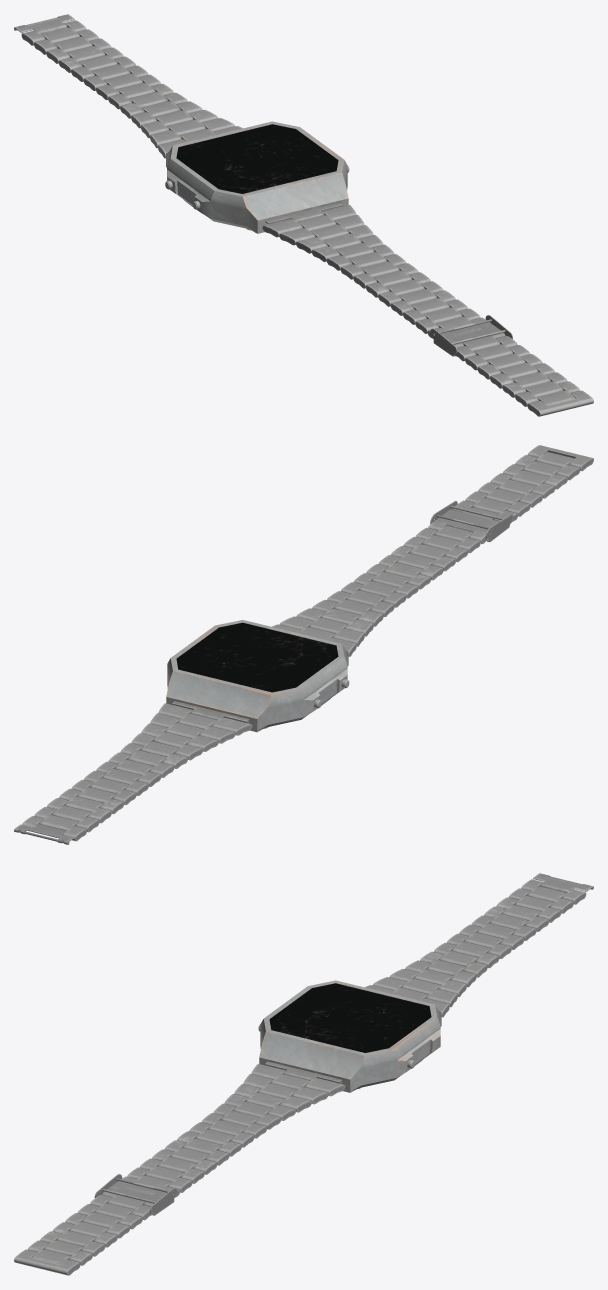
File: digital_wrist_watch.glb
The picture shows the model from 3 angles, top to bottom: view 1: azimuth 30°, elevation 25°; view 2: azimuth 150°, elevation 25°; view 3: azimuth 330°, elevation 25°; orthographic projection.
Visible parts, largest first — view 1: digital_wrist_watch_strap_b, digital_wrist_watch, digital_wrist_watch_strap_a, digital_wrist_watch_clasp; view 2: digital_wrist_watch_strap_b, digital_wrist_watch, digital_wrist_watch_strap_a, digital_wrist_watch_clasp; view 3: digital_wrist_watch_strap_b, digital_wrist_watch, digital_wrist_watch_strap_a, digital_wrist_watch_clasp.
Boxes of the visible parts, x1,y1,x2,y2 form: digital_wrist_watch_strap_b: (262, 202, 593, 416); digital_wrist_watch: (165, 121, 349, 233); digital_wrist_watch_strap_a: (21, 20, 242, 158); digital_wrist_watch_clasp: (14, 14, 74, 33); digital_wrist_watch_strap_b: (272, 445, 593, 656); digital_wrist_watch: (166, 620, 349, 732); digital_wrist_watch_strap_a: (22, 701, 252, 841); digital_wrist_watch_clasp: (14, 824, 74, 844); digital_wrist_watch_strap_b: (14, 1061, 345, 1275); digital_wrist_watch: (258, 980, 441, 1092); digital_wrist_watch_strap_a: (365, 879, 586, 1017); digital_wrist_watch_clasp: (533, 873, 593, 892).
Size of the model in its own units: 0.0365 by 0.00834 by 0.2172.
Materials: 2 (2 with a texture image).
